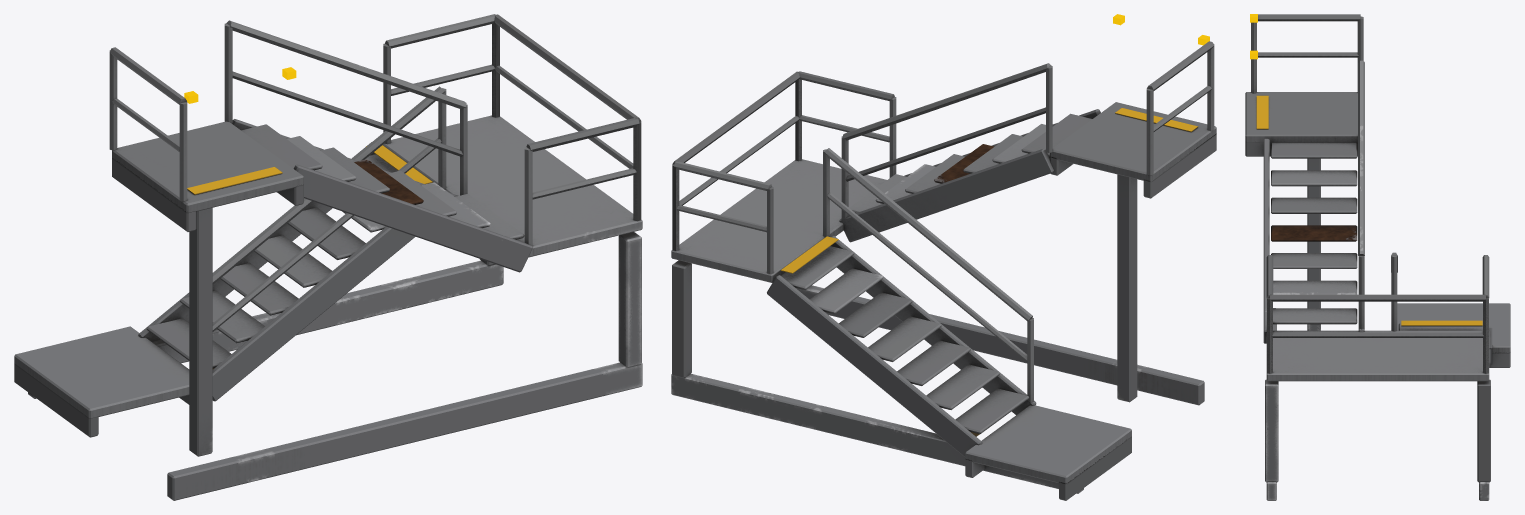
The model's file is nodexeus-set-stair-2.glb.
3 views of the same model, side by side, from view 1: azimuth 30°, elevation 25°; view 2: azimuth 150°, elevation 25°; view 3: azimuth 270°, elevation 25° (orthographic). The views are drawn at different scales.
Visible parts, largest first — view 1: set-stair-2; view 2: set-stair-2; view 3: set-stair-2.
Boxes of the visible parts, x1,y1,x2,y2 form: set-stair-2: [14, 14, 642, 500]; set-stair-2: [671, 14, 1216, 500]; set-stair-2: [1245, 14, 1510, 500].
Size of the model in its own units: 4.82 by 4.02 by 3.07.
Materials: 1 (1 with a texture image).
